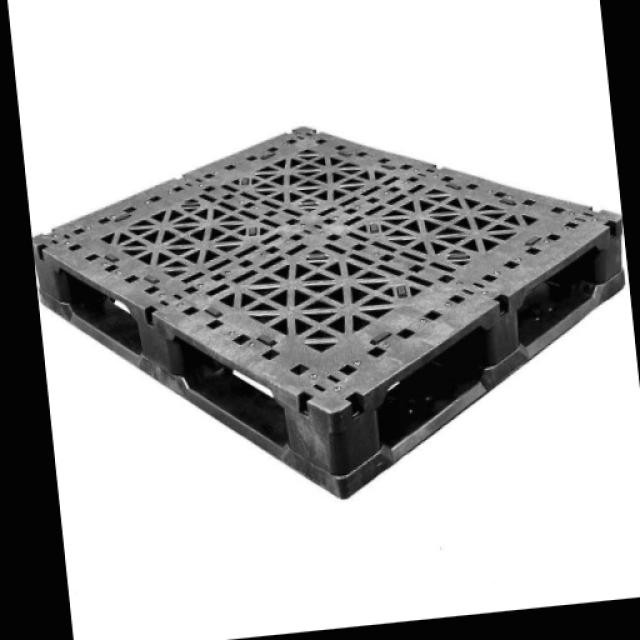non-igps: (28, 117, 640, 506)
